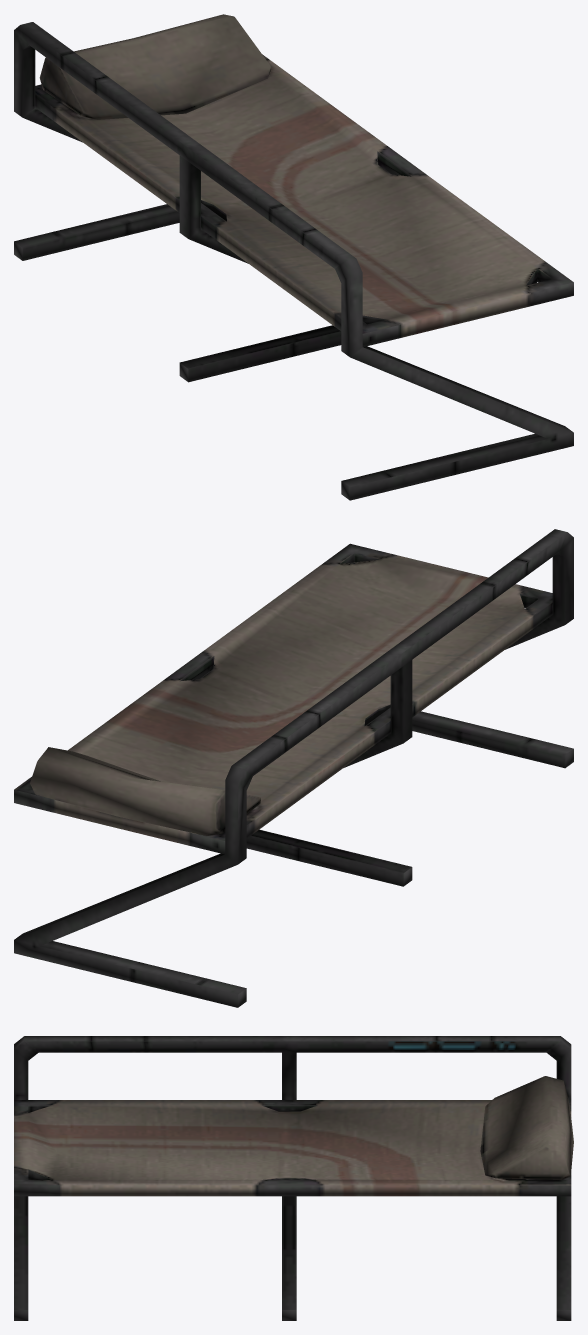
File: BedCot01.FBX
3 renders of one model, top to bottom at view 1: azimuth 30°, elevation 25°; view 2: azimuth 150°, elevation 25°; view 3: azimuth 270°, elevation 25°, orthographic. The views are drawn at different scales.
Visible parts, largest first — view 1: BedCot01; view 2: BedCot01; view 3: BedCot01.
Boxes of the visible parts, x1,y1,x2,y2 form: BedCot01: (14,14,573,500); BedCot01: (14,529,573,1007); BedCot01: (14,1036,573,1320).
Size of the model in its own units: 1 by 1 by 2.61.
